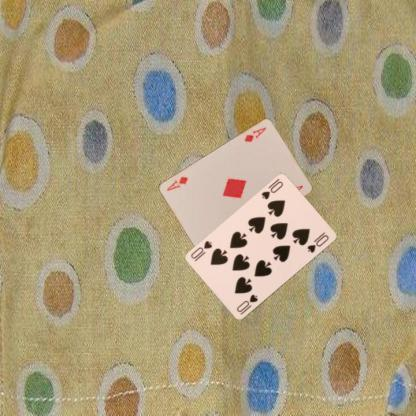10s: (258, 178, 284, 202), (234, 292, 259, 314)
Ad: (243, 125, 268, 144)
